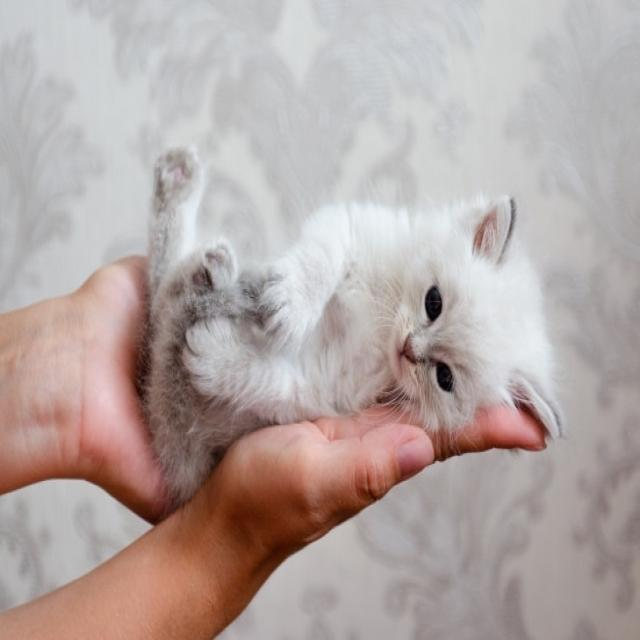Neva Masquerade: (137, 131, 570, 503)
